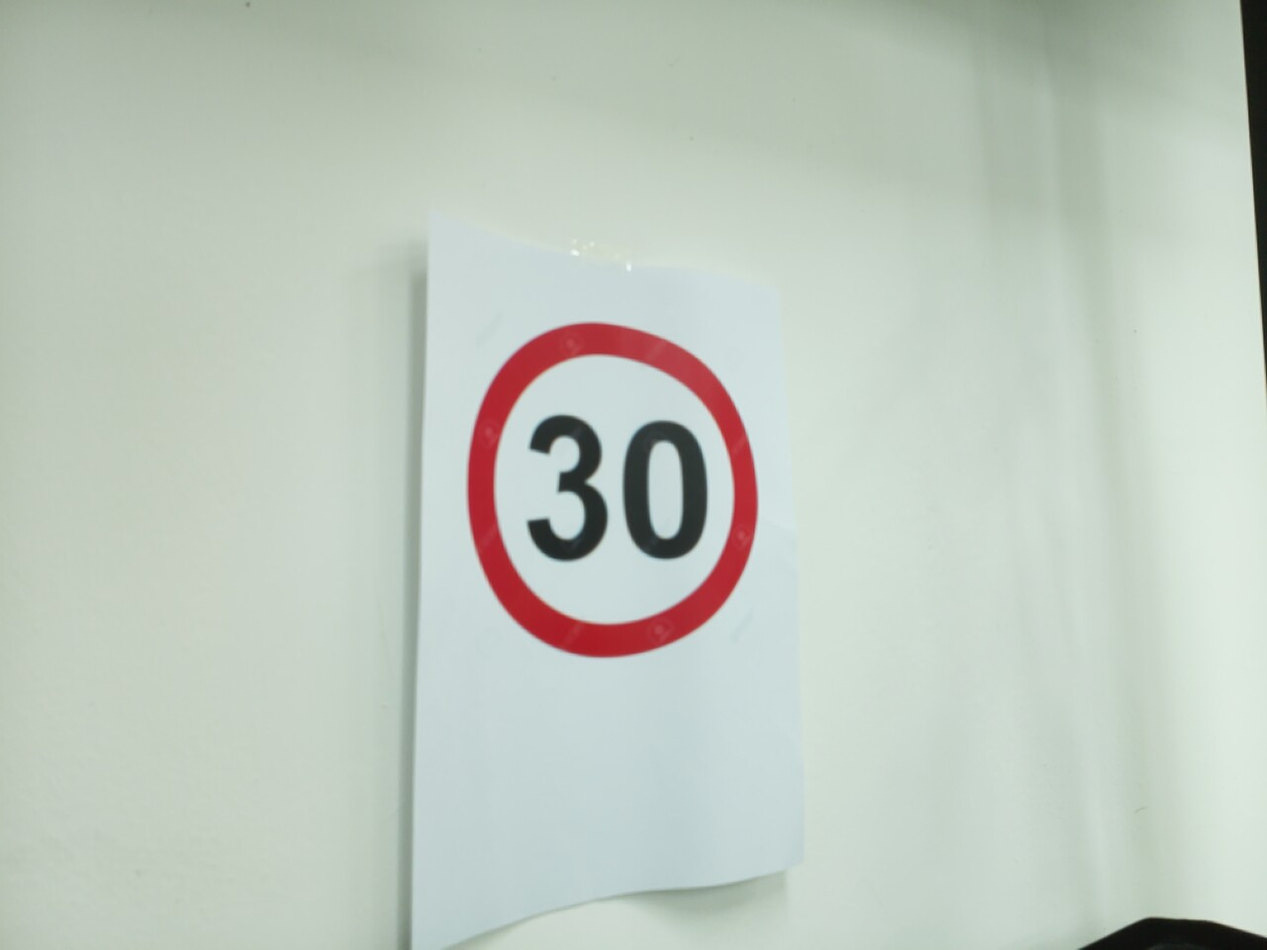speed_30: (457, 313, 768, 668)
